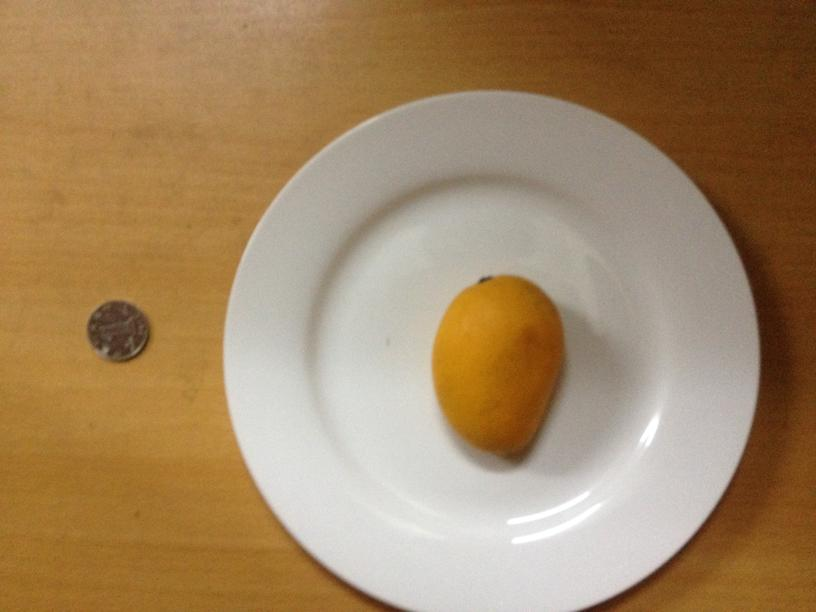coin: (86, 302, 147, 361)
mango: (437, 273, 561, 457)
